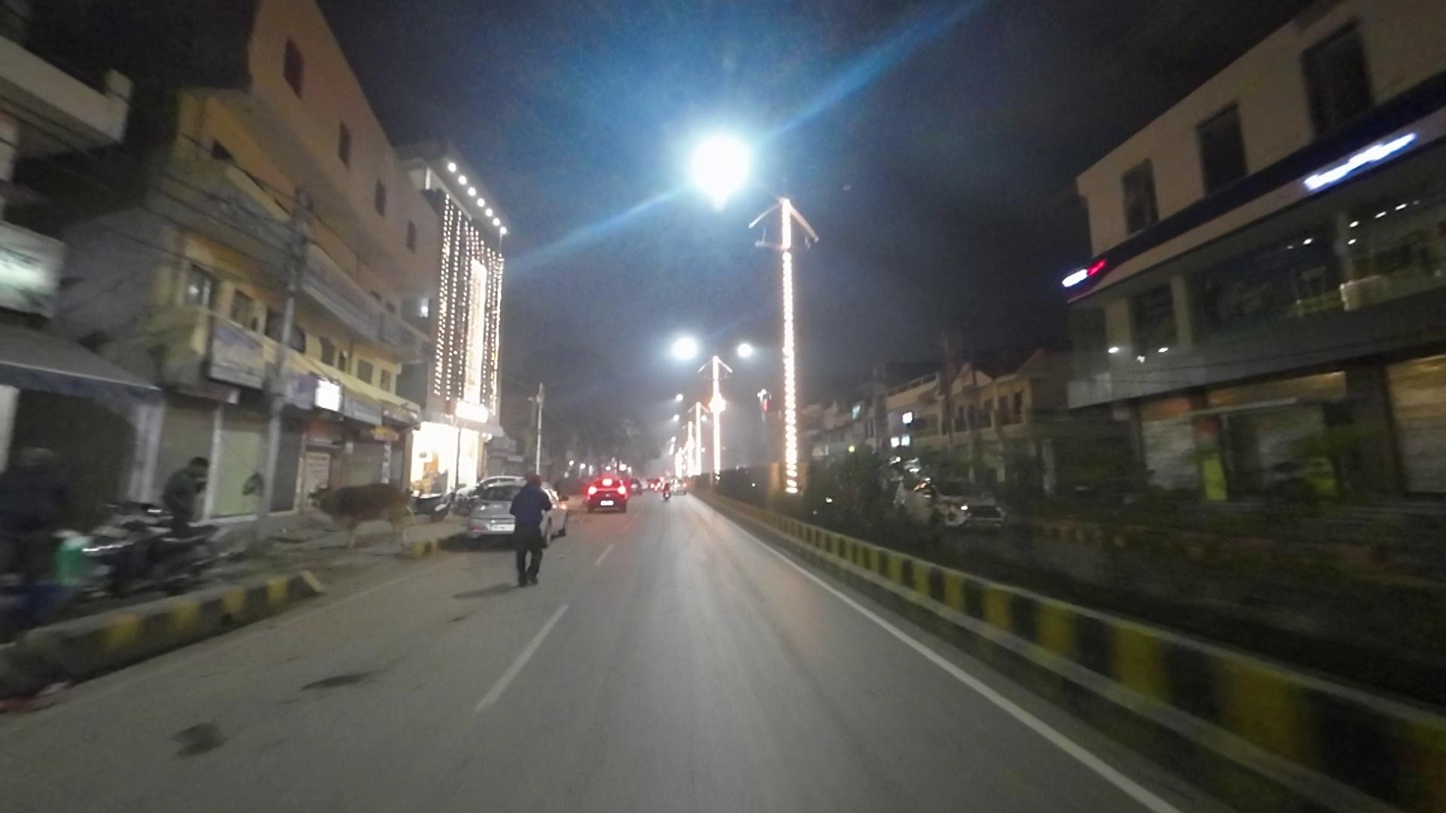streetlight: (798, 182, 851, 197)
